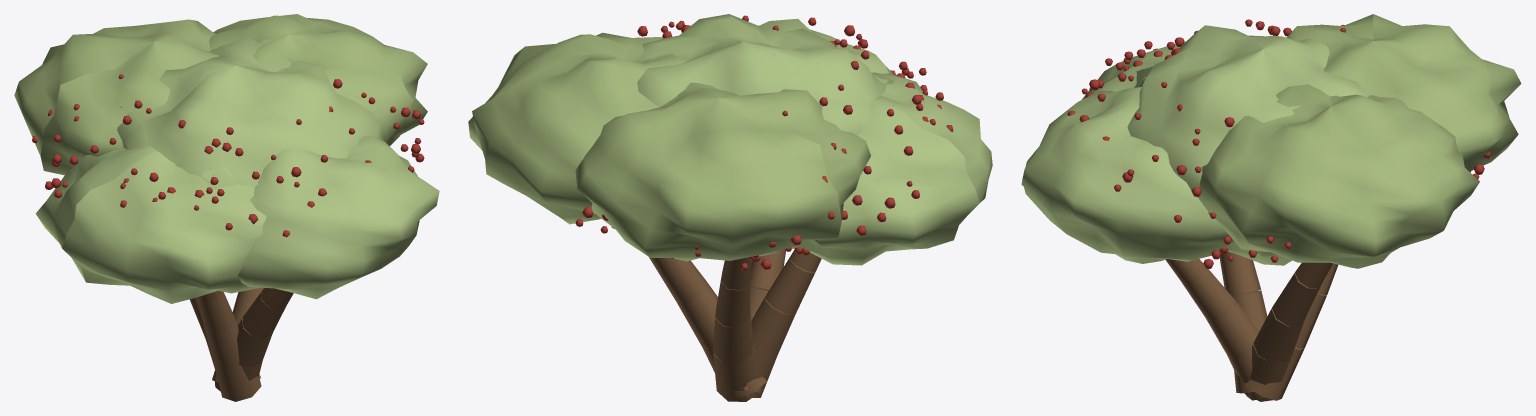
File: perzsafa-bokorfa-tavasz.glb
The picture shows the model from 3 angles, left to right: view 1: azimuth 30°, elevation 25°; view 2: azimuth 150°, elevation 25°; view 3: azimuth 270°, elevation 25°; orthographic projection. The views are drawn at different scales.
Parts seen in each view (by area): view 1: korona-1, kozeptomeg, korona-3, korona-4, korona-2, virag, to-1-1, to-3-3, to-1-2, to-1-3, to-3-2, to-2-2 (+1 smaller); view 2: korona-4, korona-2, korona-1, kozeptomeg, virag, to-2-3, to-1-2, to-1-3, to-4-2, to-2-2, to-4-1, to-4-3 (+5 smaller); view 3: korona-2, korona-3, kozeptomeg, korona-4, virag, to-3-2, to-2-2, to-3-3, to-2-3, to-1-3, korona-1, to-2-1 (+6 smaller).
Boxes of the visible parts, x1=… form: korona-1: x1=35, y1=146, x2=266, y2=303; kozeptomeg: x1=117, y1=37, x2=383, y2=189; korona-3: x1=238, y1=135, x2=439, y2=299; korona-4: x1=14, y1=19, x2=218, y2=175; korona-2: x1=209, y1=14, x2=427, y2=146; virag: x1=32, y1=74, x2=424, y2=236; to-1-1: x1=214, y1=363, x2=261, y2=401; to-3-3: x1=242, y1=292, x2=286, y2=338; to-1-2: x1=205, y1=314, x2=239, y2=367; to-1-3: x1=197, y1=291, x2=234, y2=334; to-3-2: x1=237, y1=318, x2=272, y2=367; to-2-2: x1=232, y1=287, x2=263, y2=324; korona-4: x1=575, y1=82, x2=870, y2=261; korona-2: x1=468, y1=32, x2=689, y2=224; korona-1: x1=797, y1=72, x2=992, y2=265; kozeptomeg: x1=637, y1=14, x2=894, y2=248; virag: x1=575, y1=15, x2=953, y2=270; to-2-3: x1=650, y1=258, x2=707, y2=303; to-1-2: x1=751, y1=295, x2=794, y2=355; to-1-3: x1=765, y1=256, x2=815, y2=314; to-4-2: x1=713, y1=310, x2=753, y2=363; to-2-2: x1=677, y1=283, x2=717, y2=349; to-4-1: x1=713, y1=343, x2=756, y2=401; to-4-3: x1=715, y1=278, x2=750, y2=327; korona-2: x1=1198, y1=84, x2=1479, y2=268; korona-3: x1=1021, y1=87, x2=1234, y2=263; kozeptomeg: x1=1127, y1=25, x2=1368, y2=265; korona-4: x1=1287, y1=14, x2=1521, y2=171; virag: x1=1067, y1=19, x2=1491, y2=268; to-3-2: x1=1206, y1=301, x2=1258, y2=359; to-2-2: x1=1253, y1=308, x2=1305, y2=363; to-3-3: x1=1181, y1=268, x2=1235, y2=321; to-2-3: x1=1272, y1=273, x2=1322, y2=325; to-1-3: x1=1219, y1=251, x2=1260, y2=295; korona-1: x1=1082, y1=41, x2=1185, y2=99; to-2-1: x1=1244, y1=344, x2=1293, y2=401.
Size of the model in its own units: 5.61 by 4.42 by 5.75.
